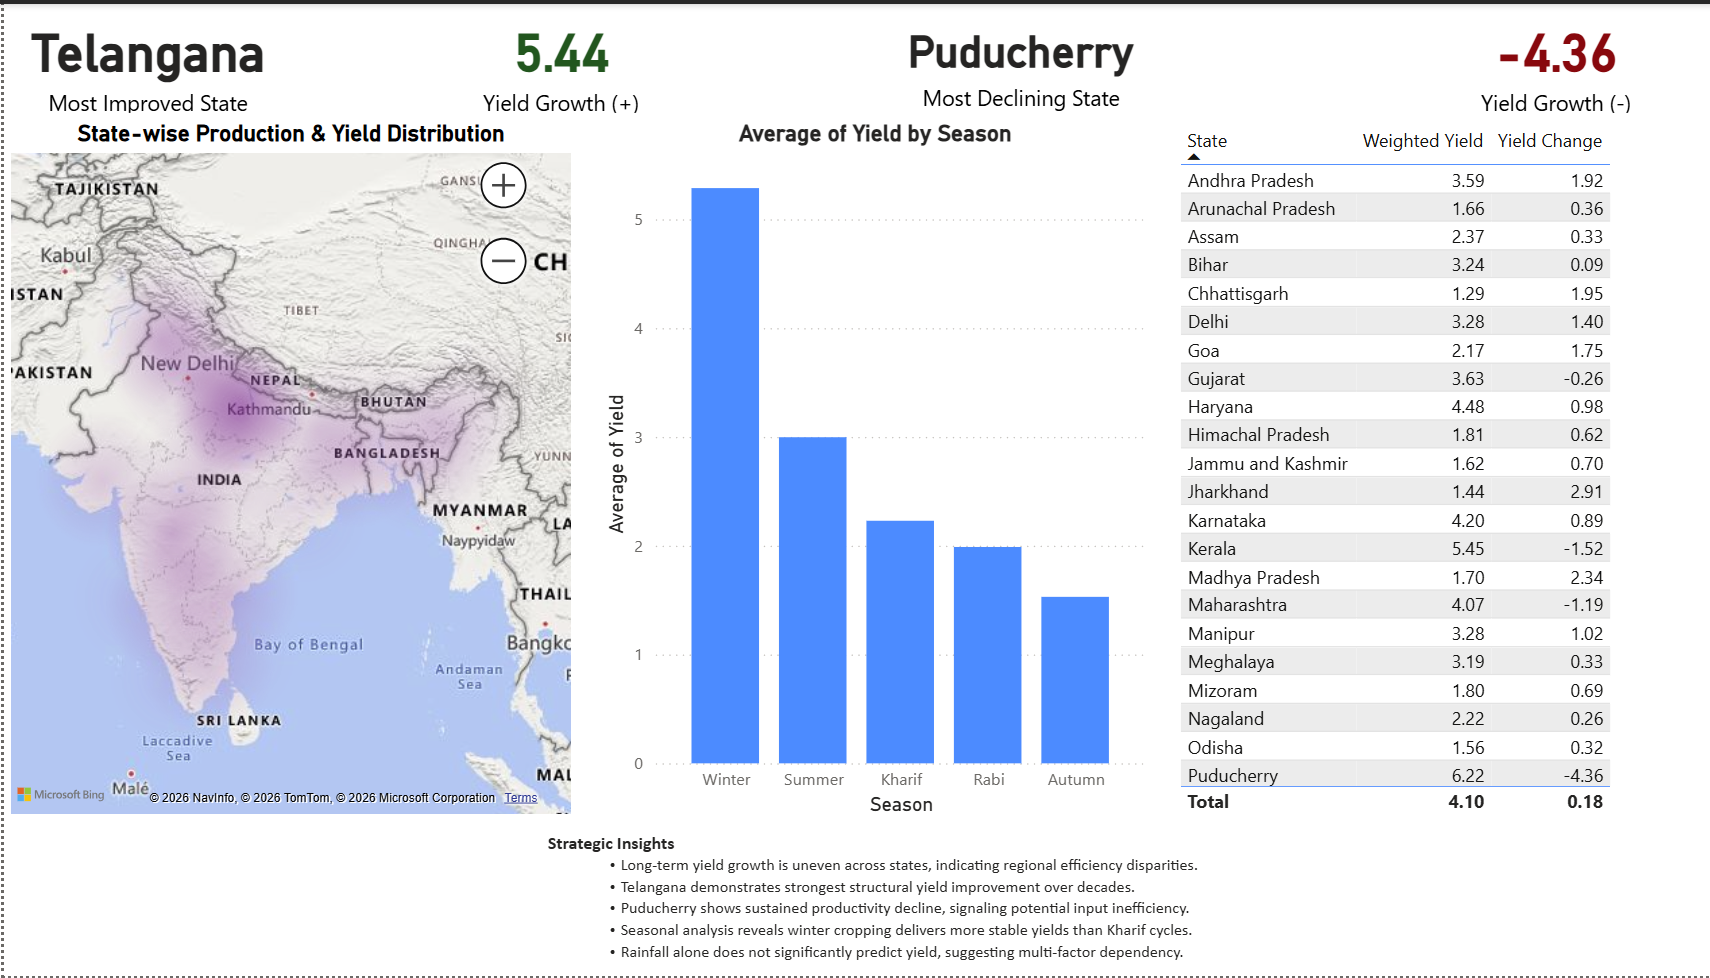

Layout of this report page (visuals, bound fields, positions):
{"tool":"powerbi","page":{"name":"Strategic Insights","canvas":[1280,720],"ordinal":2},"visuals":[{"type":"tableEx","fields":{"Values":["clean_agriculture_data.State","clean_agriculture_data.Weighted Yield","clean_agriculture_data.Yield Change (2010s vs 1990s)"]},"box":[865.2,85.8,414.5,519.6],"z":0},{"type":"clusteredColumnChart","fields":{"Category":["clean_agriculture_data.Season"],"Y":["Avg(clean_agriculture_data.Yield)"]},"box":[439.8,85.8,410.8,519.6],"z":1000},{"type":"map","title":"State-wise Production & Yield Distribution","fields":{"Category":["clean_agriculture_data.State"],"Size":["Sum(clean_agriculture_data.Production)"]},"box":[0,85.8,425.3,519.6],"z":2000},{"type":"card","fields":{"Values":["clean_agriculture_data.Most Improved State"]},"box":[0,0,212.7,85.8],"z":3000},{"type":"card","fields":{"Values":["clean_agriculture_data.Most Declining State"]},"box":[611.4,0,284,85.8],"z":4000},{"type":"card","fields":{"Values":["clean_agriculture_data.Max Improvement Value"]},"box":[335.9,0,153.5,85.8],"z":5000},{"type":"card","fields":{"Values":["clean_agriculture_data.Max Decline Value"]},"box":[1018.6,0,261,85.8],"z":6000},{"type":"textbox","box":[397.5,605.4,497.8,114.8],"z":7000}]}

Visuals, with their boxes in screenshot pixels (x1, y1, x2, y2), scaled from the page's 1280x720 canvas onto the 1710x978 screenshot:
tableEx - clean_agriculture_data.State x clean_agriculture_data.Weighted Yield: 1156,117,1709,822
clusteredColumnChart - clean_agriculture_data.Season x Avg(clean_agriculture_data.Yield): 588,117,1136,822
"State-wise Production & Yield Distribution" map: 0,117,568,822
card - clean_agriculture_data.Most Improved State: 0,0,284,117
card - clean_agriculture_data.Most Declining State: 817,0,1196,117
card - clean_agriculture_data.Max Improvement Value: 449,0,654,117
card - clean_agriculture_data.Max Decline Value: 1361,0,1709,117
textbox: 531,822,1196,977
